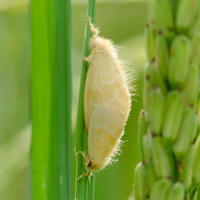insect: (76, 18, 130, 180)
